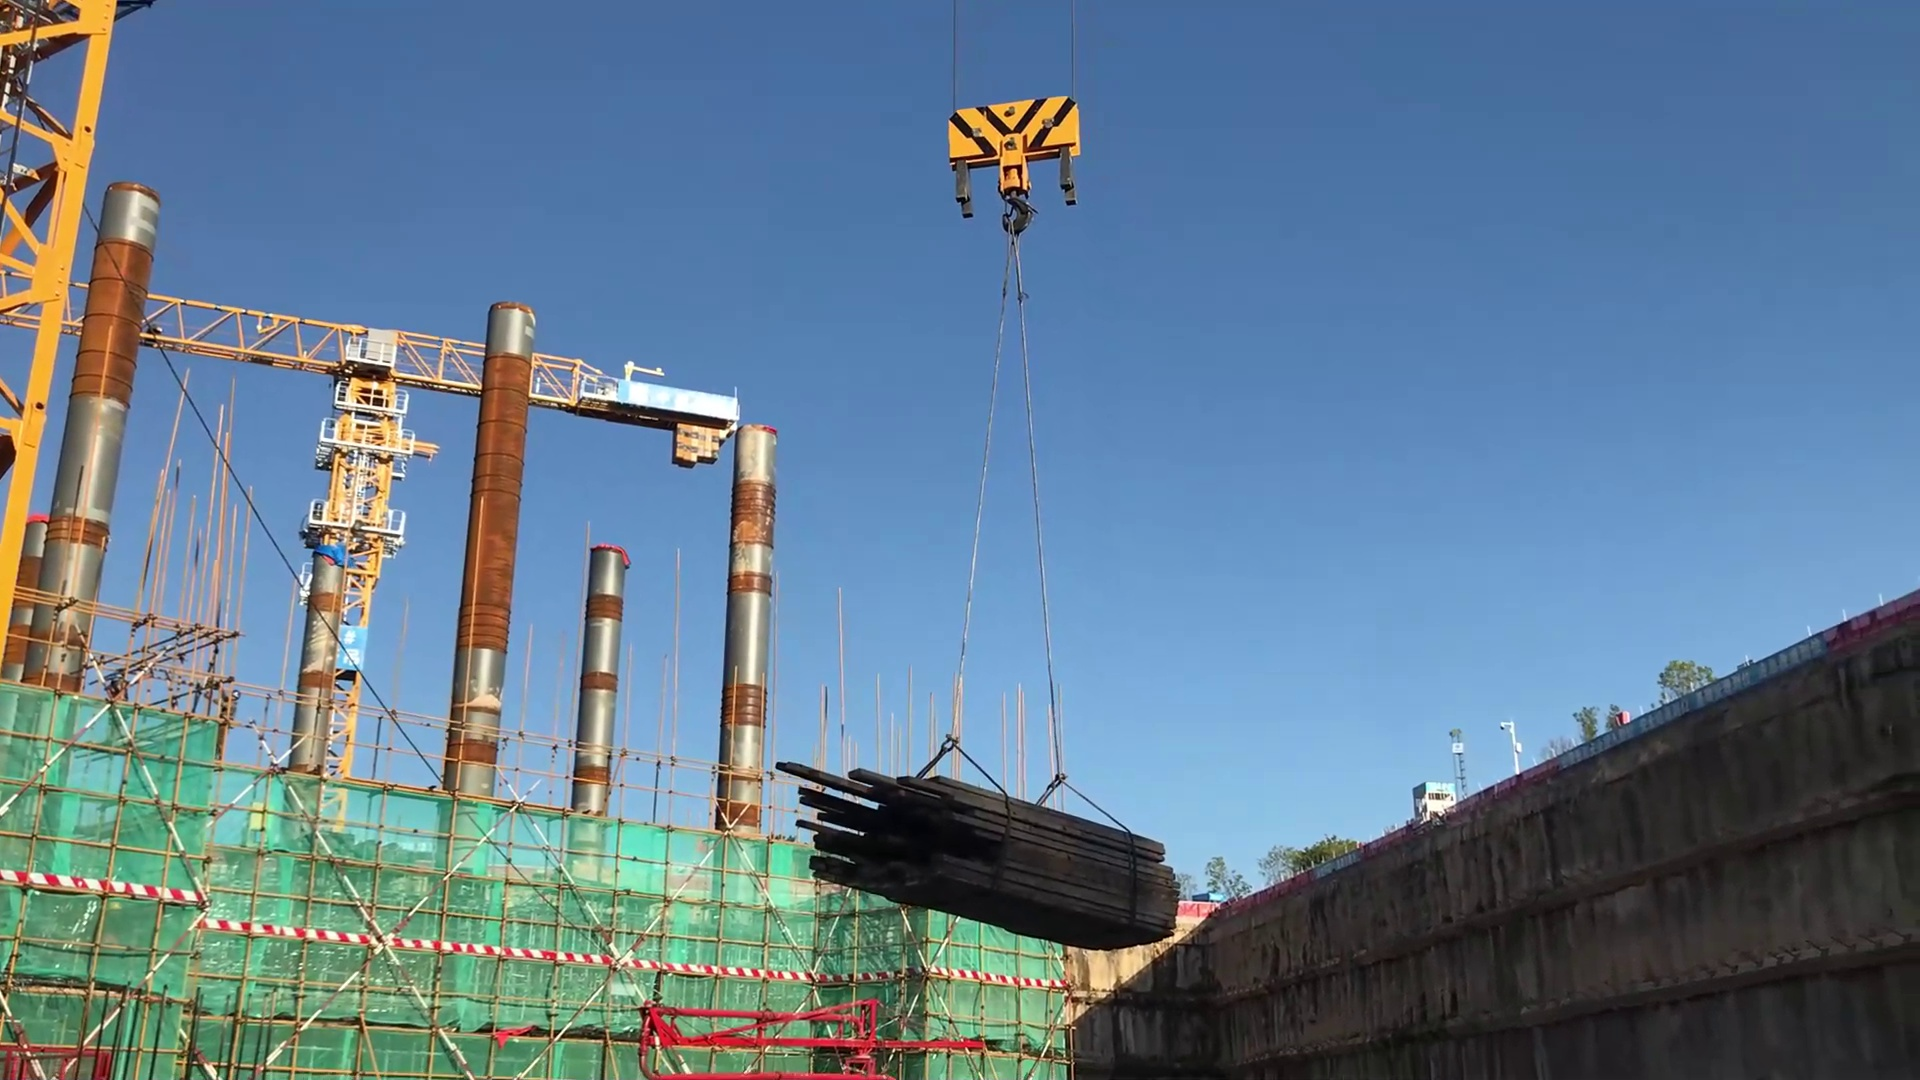hook: (940, 98, 1105, 272)
slogan: (1545, 615, 1844, 774)
wood: (764, 742, 1183, 964)
